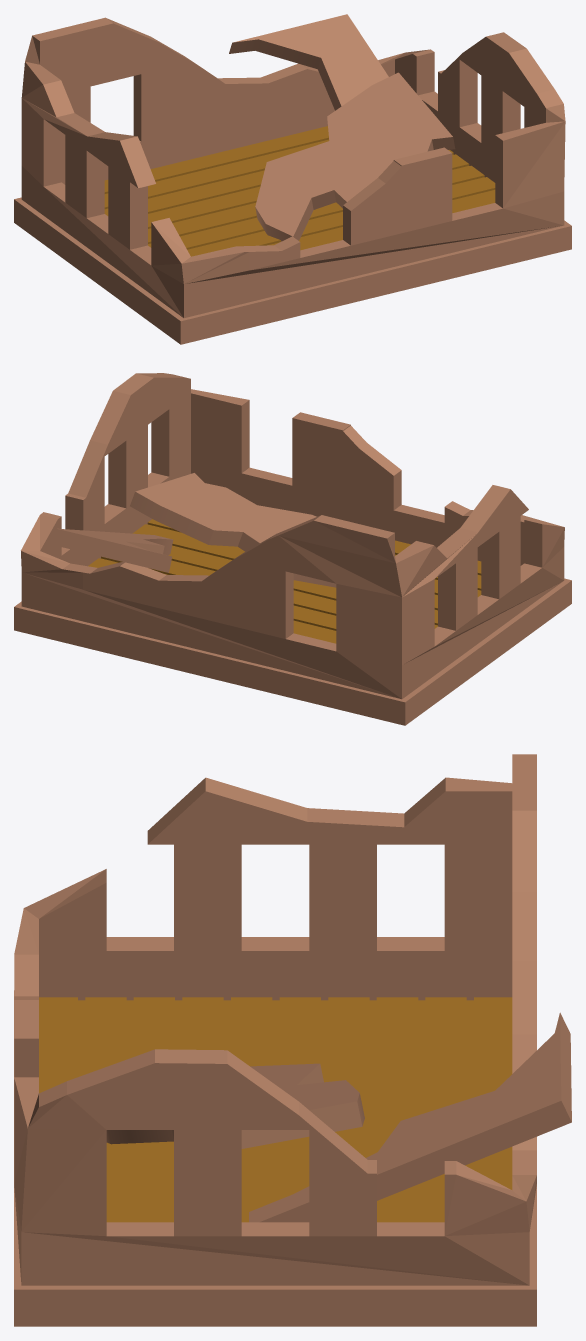
The model's file is 05 Broken_House_3.FBX.
3 views of the same model, one above another, from view 1: azimuth 30°, elevation 25°; view 2: azimuth 150°, elevation 25°; view 3: azimuth 270°, elevation 25° (orthographic). The views are drawn at different scales.
Parts seen in each view (by area): view 1: House_4; view 2: House_4; view 3: House_4.
Part boxes in pixels (box(x1,y1,x2,y2)): House_4: box(14, 14, 571, 344); House_4: box(14, 373, 571, 725); House_4: box(14, 754, 571, 1326).
Size of the model in its own units: 2153 by 961 by 1696.
